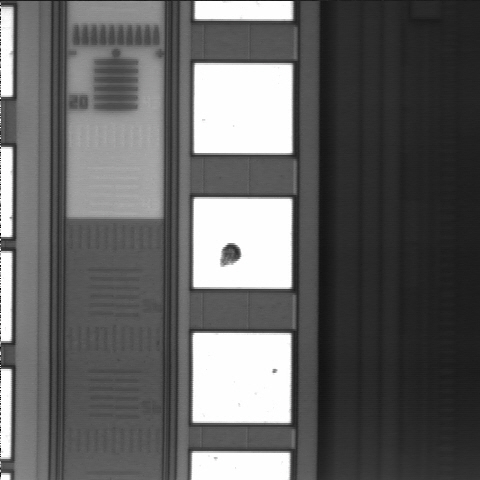pad: (193, 197, 292, 289), (194, 63, 292, 153), (193, 333, 291, 423)
